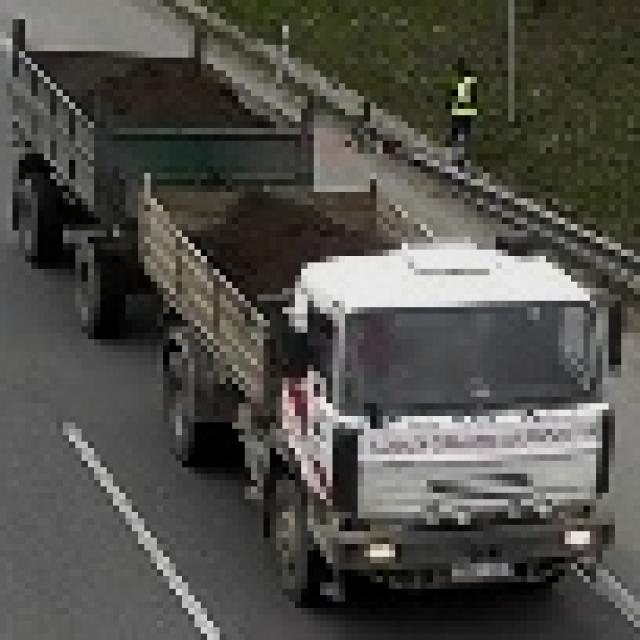truck: (1, 14, 616, 609)
